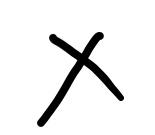mult: (38, 30, 123, 127)
